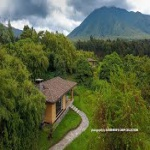Forest: (4, 32, 147, 148)
House: (32, 69, 83, 126), (86, 56, 101, 69)
